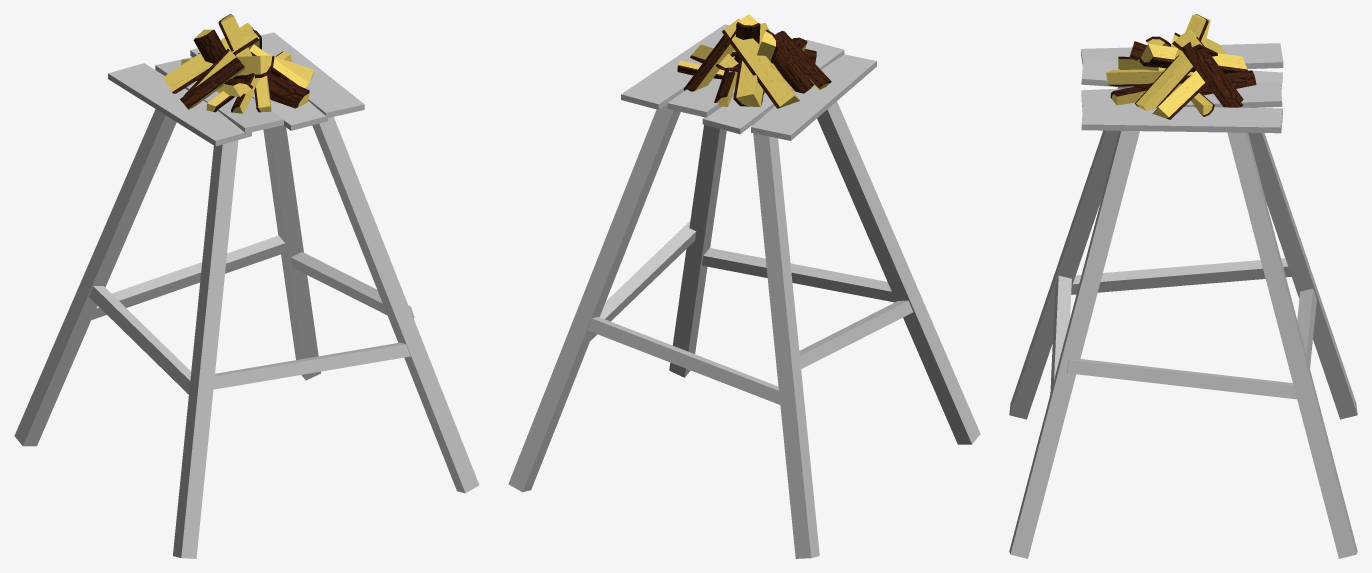
The model's file is fire_tower1.FBX.
The picture shows the model from 3 angles, left to right: view 1: azimuth 30°, elevation 25°; view 2: azimuth 150°, elevation 25°; view 3: azimuth 270°, elevation 25°; orthographic projection. The views are drawn at different scales.
Visible parts, largest first — view 1: Box002; view 2: Box002; view 3: Box002.
Part boxes in pixels (<box>): Box002: <box>14,14,479,558</box>; Box002: <box>508,14,980,558</box>; Box002: <box>1009,14,1357,558</box>.
Bounding box in the file's own units: 327 × 473 × 319.
